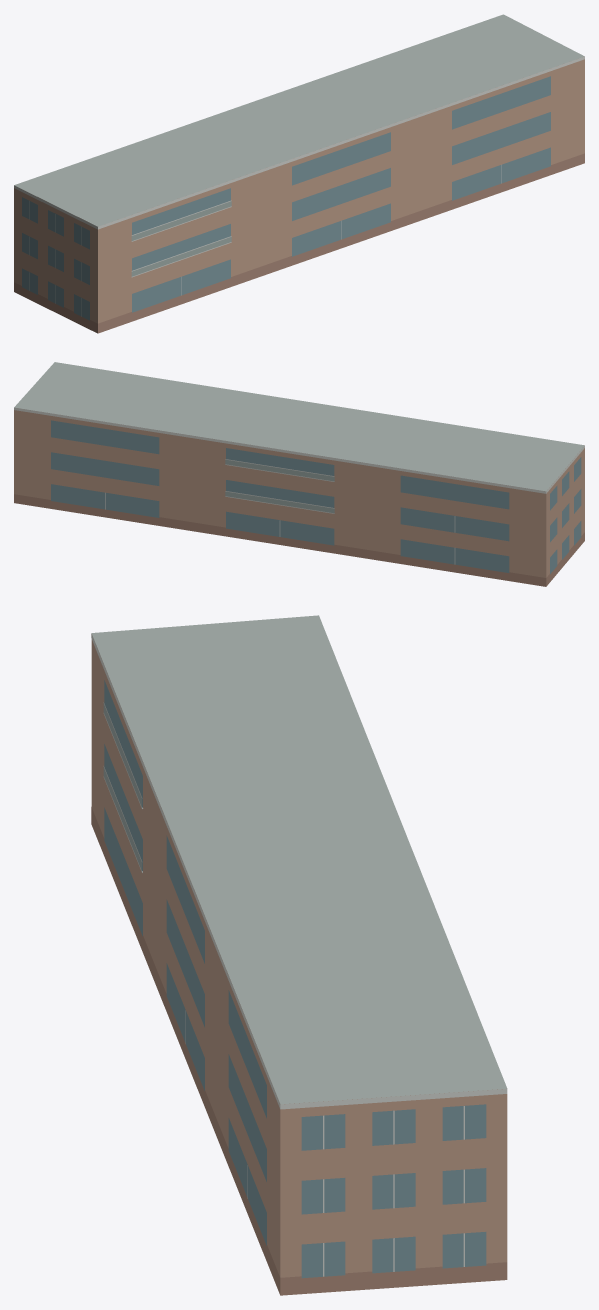
The model's file is survey-upis-32935347.glb.
The picture shows the model from 3 angles, top to bottom: view 1: azimuth 30°, elevation 25°; view 2: azimuth 150°, elevation 25°; view 3: azimuth 270°, elevation 25°; orthographic projection. The views are drawn at different scales.
Visible parts, largest first — view 1: survey-upis-32935347.tmp; view 2: survey-upis-32935347.tmp; view 3: survey-upis-32935347.tmp.
Part boxes in pixels (x1,y1,x2,y2): survey-upis-32935347.tmp: [14, 14, 584, 333]; survey-upis-32935347.tmp: [14, 362, 584, 586]; survey-upis-32935347.tmp: [91, 615, 507, 1295].
Bounding box in the file's own units: 50.21 × 9.15 × 18.06.
